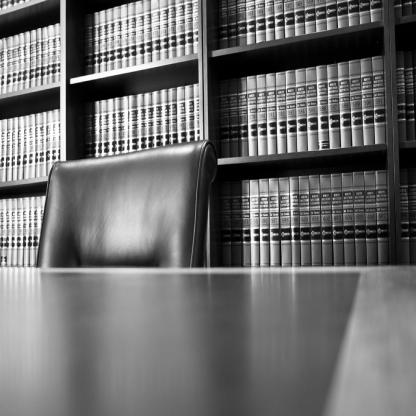book: (0, 0, 415, 269), (249, 180, 258, 266)
